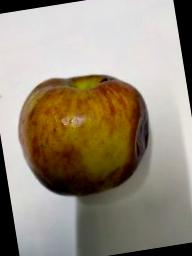Apple Overripe: (10, 70, 168, 208)
